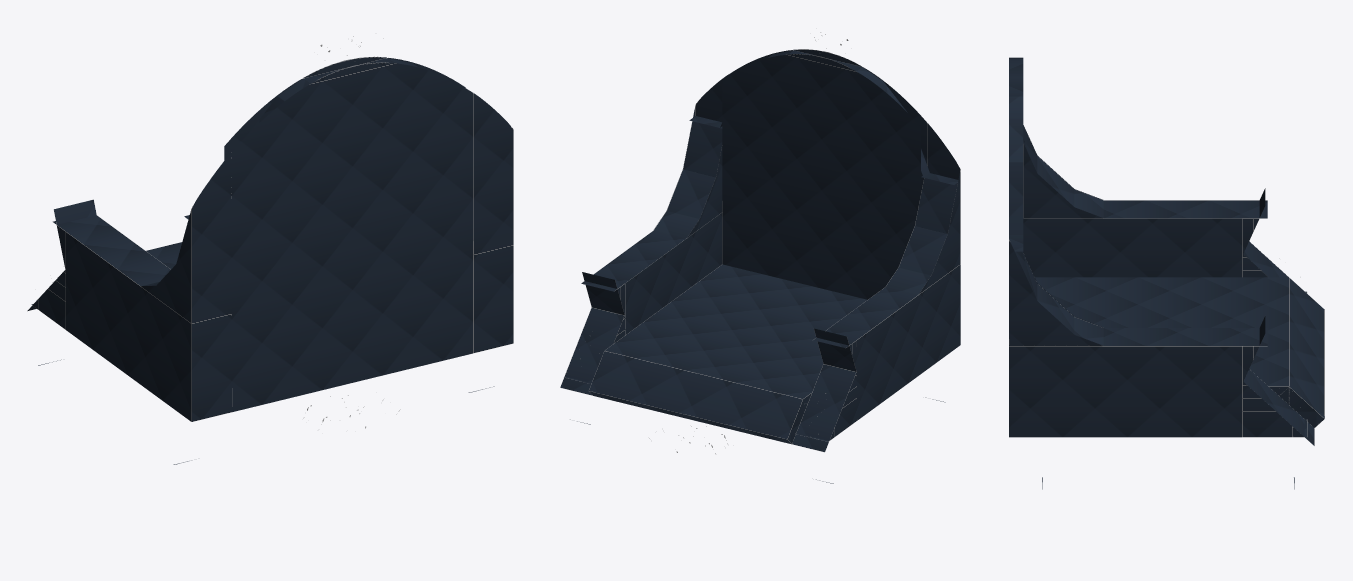
File: black_chair.obj
The picture shows the model from 3 angles, left to right: view 1: azimuth 30°, elevation 25°; view 2: azimuth 150°, elevation 25°; view 3: azimuth 270°, elevation 25°; orthographic projection. The views are drawn at different scales.
Parts seen in each view (by area): view 1: cube.078, cube.046, cube.108, cube.107, cube.045, cube.050, cube.080, cube.079, cube.063, cube.033, cube.093; view 2: cube.078, cube.081, cube.087, cube.046, cube.045, cube.086, cube.083, cube.049, cube.050, cube.080, cube.062, cube.061 (+9 smaller); view 3: cube.045, cube.081, cube.046, cube.087, cube.049, cube.050, cube.107, cube.083, cube.034, cube.076, cube.121, cube.122 (+8 smaller).
Part boxes in pixels (bbox=[...]): cube.078: bbox=[234, 57, 463, 409]; cube.046: bbox=[65, 232, 231, 421]; cube.108: bbox=[184, 196, 231, 323]; cube.107: bbox=[473, 127, 513, 254]; cube.045: bbox=[473, 245, 513, 353]; cube.050: bbox=[52, 215, 170, 286]; cube.080: bbox=[455, 81, 473, 355]; cube.079: bbox=[224, 135, 241, 412]; cube.063: bbox=[303, 36, 394, 83]; cube.033: bbox=[38, 289, 65, 329]; cube.093: bbox=[53, 199, 96, 261]; cube.078: bbox=[730, 50, 919, 299]; cube.081: bbox=[604, 264, 867, 412]; cube.087: bbox=[589, 351, 807, 444]; cube.046: bbox=[824, 264, 960, 420]; cube.045: bbox=[592, 213, 722, 357]; cube.086: bbox=[792, 364, 856, 452]; cube.083: bbox=[560, 307, 624, 395]; cube.049: bbox=[581, 230, 686, 291]; cube.050: bbox=[813, 287, 917, 348]; cube.080: bbox=[722, 69, 736, 266]; cube.062: bbox=[915, 178, 957, 233]; cube.061: bbox=[683, 121, 722, 177]; cube.045: bbox=[1009, 346, 1242, 437]; cube.081: bbox=[1035, 277, 1289, 411]; cube.046: bbox=[1023, 218, 1242, 277]; cube.087: bbox=[1279, 278, 1324, 427]; cube.049: bbox=[1102, 328, 1267, 346]; cube.050: bbox=[1103, 200, 1267, 218]; cube.107: bbox=[1009, 239, 1023, 346]; cube.083: bbox=[1243, 369, 1314, 445]; cube.034: bbox=[1242, 411, 1292, 437]; cube.076: bbox=[1009, 162, 1023, 234]; cube.121: bbox=[1023, 253, 1033, 346]; cube.122: bbox=[1023, 125, 1033, 218].
Size of the model in its own units: 1.5 by 2.18 by 1.49.
